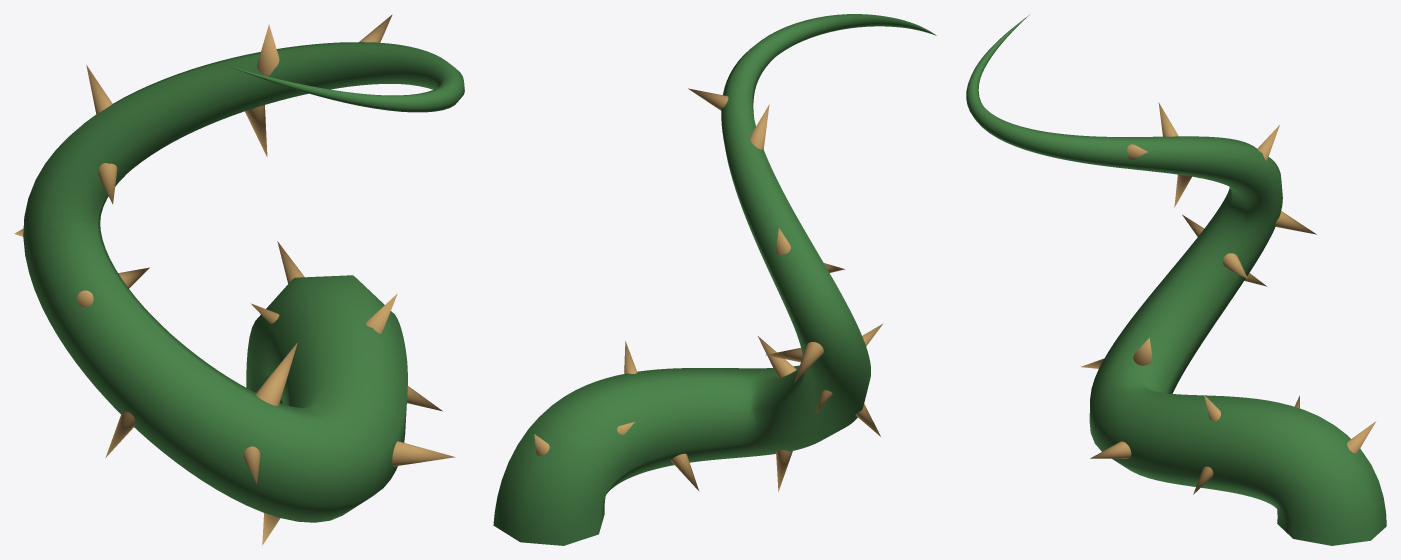
The model's file is Spike Vine two.fbx.
The picture shows the model from 3 angles, left to right: view 1: azimuth 30°, elevation 25°; view 2: azimuth 150°, elevation 25°; view 3: azimuth 270°, elevation 25°; orthographic projection. The views are drawn at different scales.
Parts seen in each view (by area): view 1: Vine_2_Vine; view 2: Vine_2_Vine; view 3: Vine_2_Vine.
Part boxes in pixels (x1,y1,x2,y2): Vine_2_Vine: [14, 14, 464, 545]; Vine_2_Vine: [493, 14, 936, 545]; Vine_2_Vine: [966, 15, 1386, 545].
Bounding box in the file's own units: 367 × 483 × 448.
